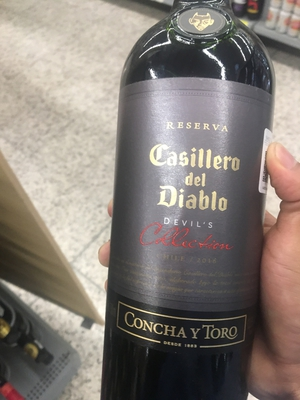casillero del diablo devils collection rojo: (105, 12, 270, 400)
